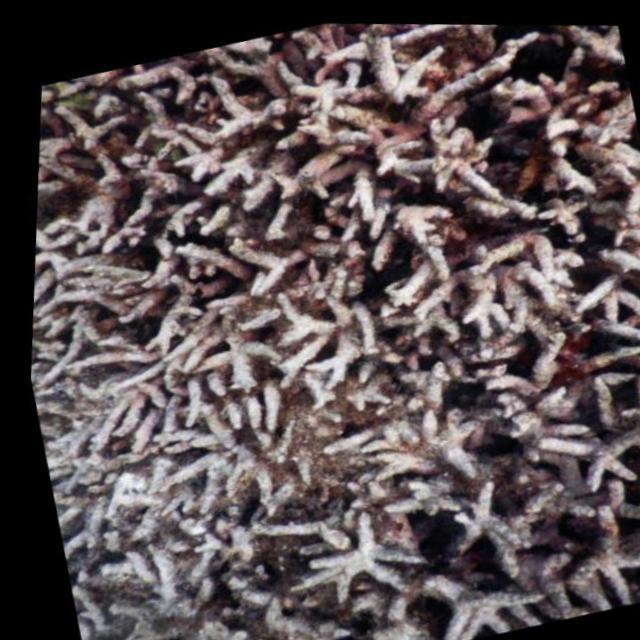Dead Coral: (78, 48, 640, 640)
